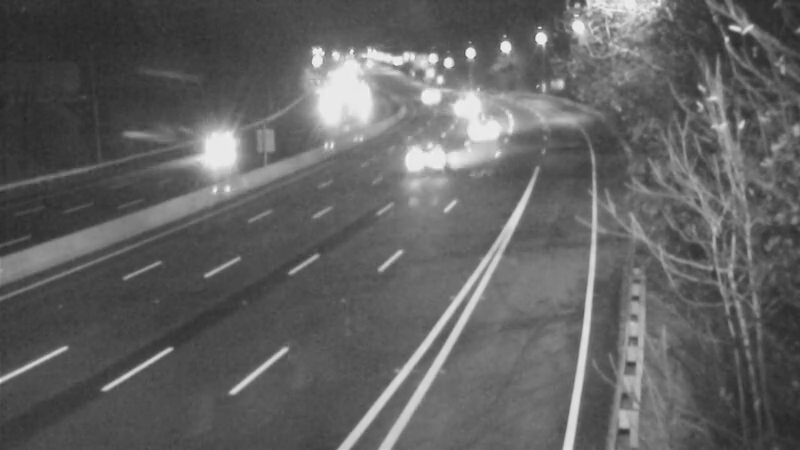vehicle: (371, 120, 451, 200), (171, 116, 251, 196), (407, 66, 457, 116), (435, 78, 485, 128), (461, 104, 511, 154)
